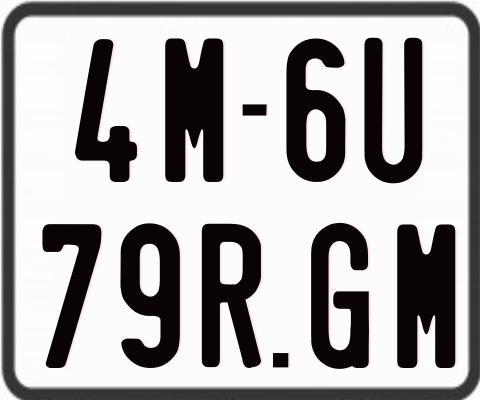4: (75, 39, 137, 185)
6: (285, 38, 347, 182)
7: (39, 224, 102, 374)
9: (120, 220, 182, 368)
G: (311, 221, 369, 370)
M: (394, 221, 456, 369), (164, 37, 224, 187)
R: (199, 221, 259, 369)
U: (364, 38, 425, 184)
